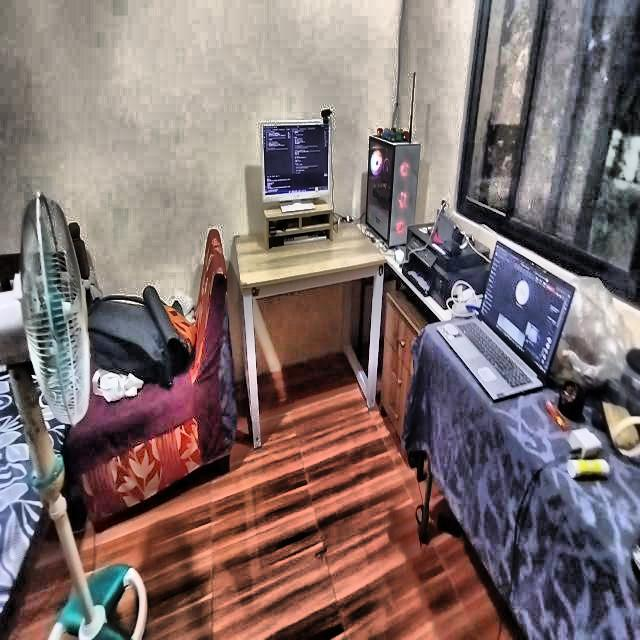mesa: (234, 216, 392, 443)
